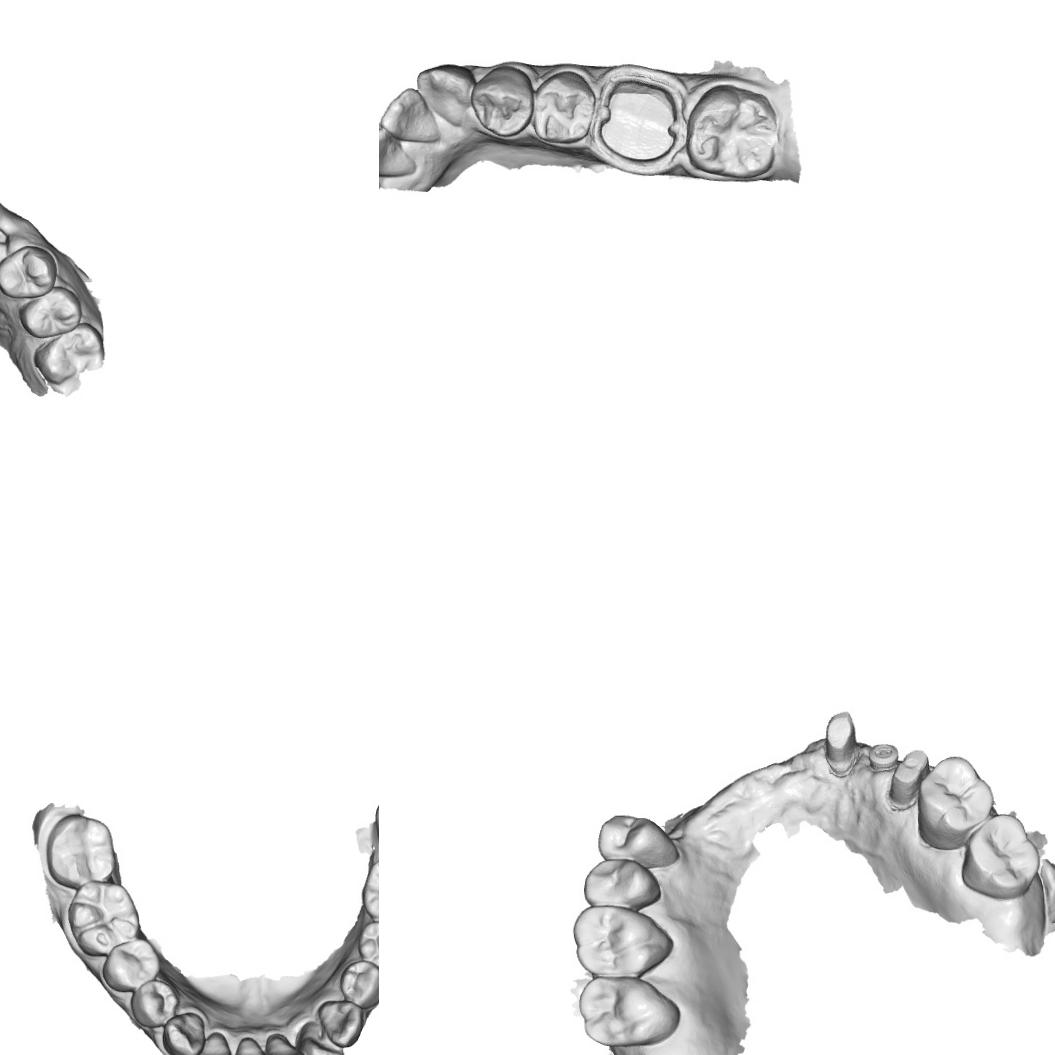canine: (414, 62, 476, 132), (317, 998, 365, 1048), (160, 1011, 206, 1055)
crown: (596, 75, 682, 165), (884, 746, 931, 812), (822, 709, 861, 778)
implant: (866, 741, 900, 774)
incisor: (379, 85, 440, 145), (379, 124, 419, 180), (296, 1019, 346, 1055), (190, 1030, 233, 1055), (263, 1032, 307, 1055), (231, 1034, 270, 1055)
molar: (684, 82, 780, 181), (571, 903, 675, 981), (576, 972, 682, 1048), (914, 754, 996, 850), (958, 811, 1042, 902), (66, 878, 141, 958), (44, 812, 118, 890), (32, 321, 106, 386), (359, 853, 379, 931)
premolar: (529, 70, 596, 146), (470, 64, 536, 139), (596, 812, 680, 870), (582, 856, 663, 914), (17, 284, 82, 339), (101, 938, 162, 992), (0, 243, 58, 299), (128, 978, 181, 1029), (338, 958, 379, 1009), (355, 919, 379, 970)
